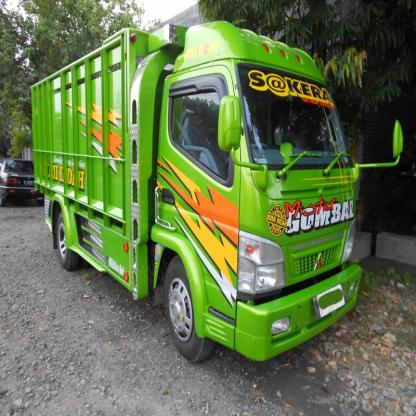truck: (31, 18, 404, 368)
